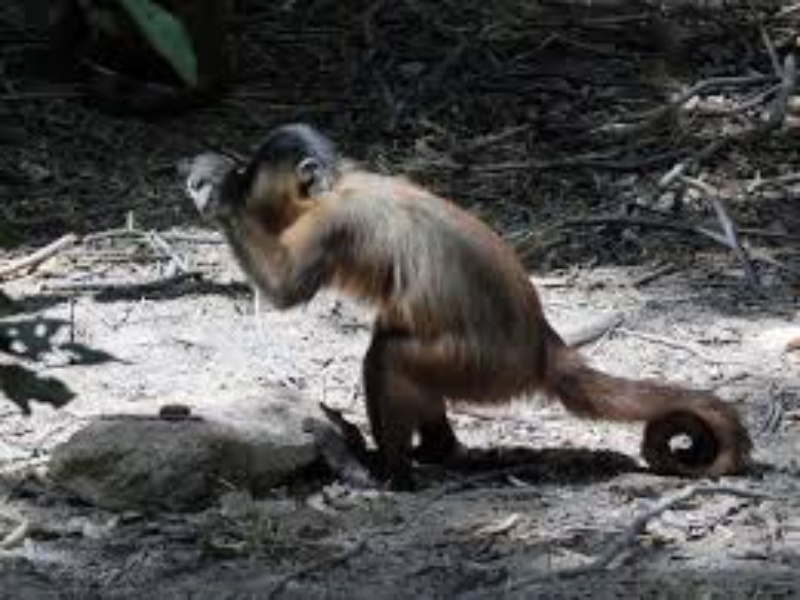monkey: (183, 106, 753, 484)
